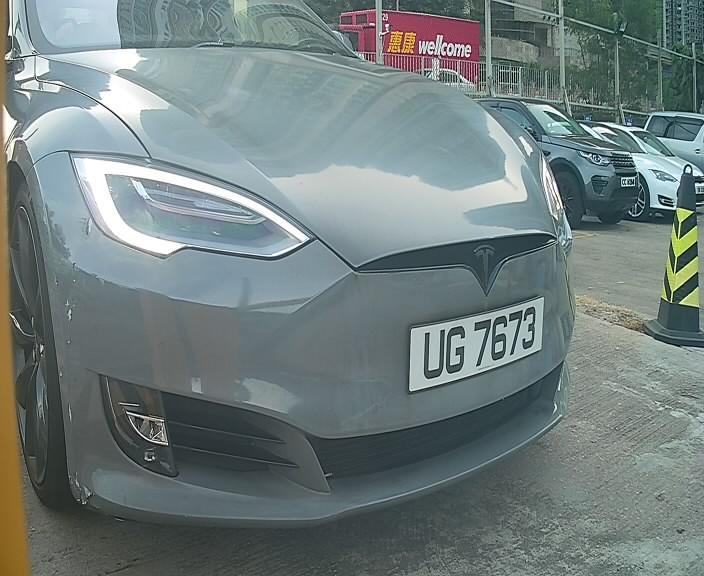privatecar: (10, 13, 576, 528)
